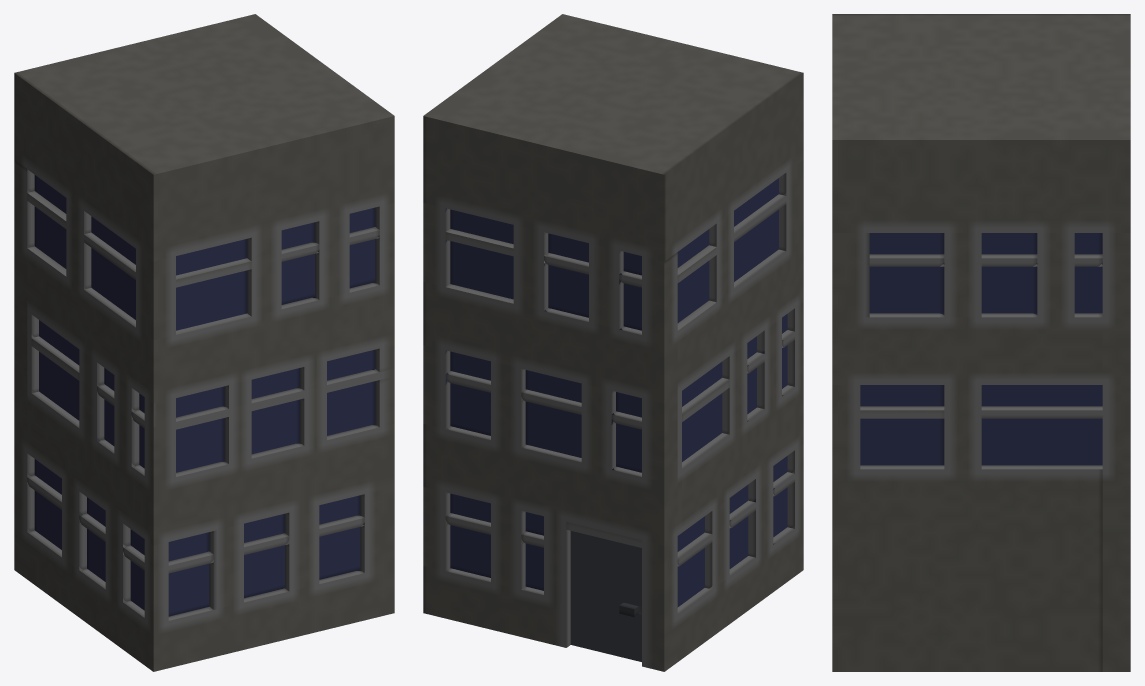
File: budynek_uni_2.dae
The picture shows the model from 3 angles, left to right: view 1: azimuth 30°, elevation 25°; view 2: azimuth 150°, elevation 25°; view 3: azimuth 270°, elevation 25°; orthographic projection. The views are drawn at different scales.
Visible parts, largest first — view 1: Content; view 2: Content; view 3: Content.
Boxes of the visible parts, box(x1,y1,x2,y2) form: Content: box(14, 14, 394, 671); Content: box(423, 14, 803, 671); Content: box(832, 14, 1130, 671).
Size of the model in its own units: 32 by 63 by 32.
Materials: 1 (1 with a texture image).
